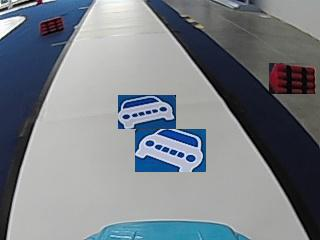bomb: (39, 15, 63, 34)
